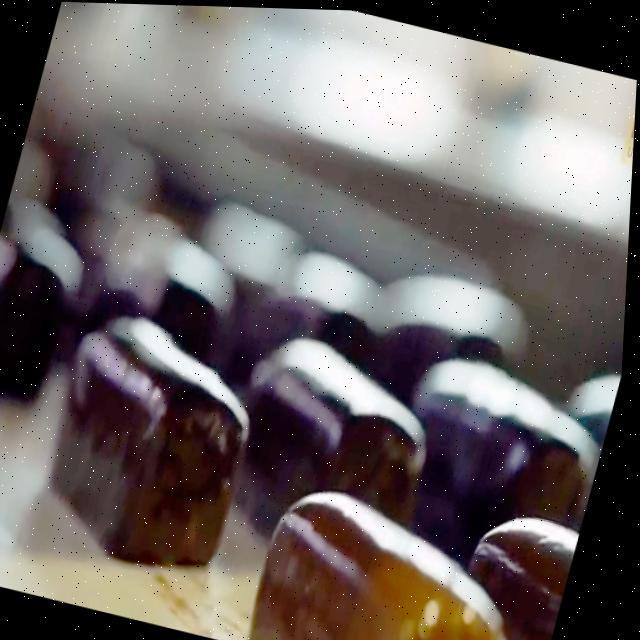Choco: (27, 295, 282, 582), (216, 317, 456, 562), (247, 469, 546, 640), (388, 345, 617, 543), (446, 490, 588, 640)
